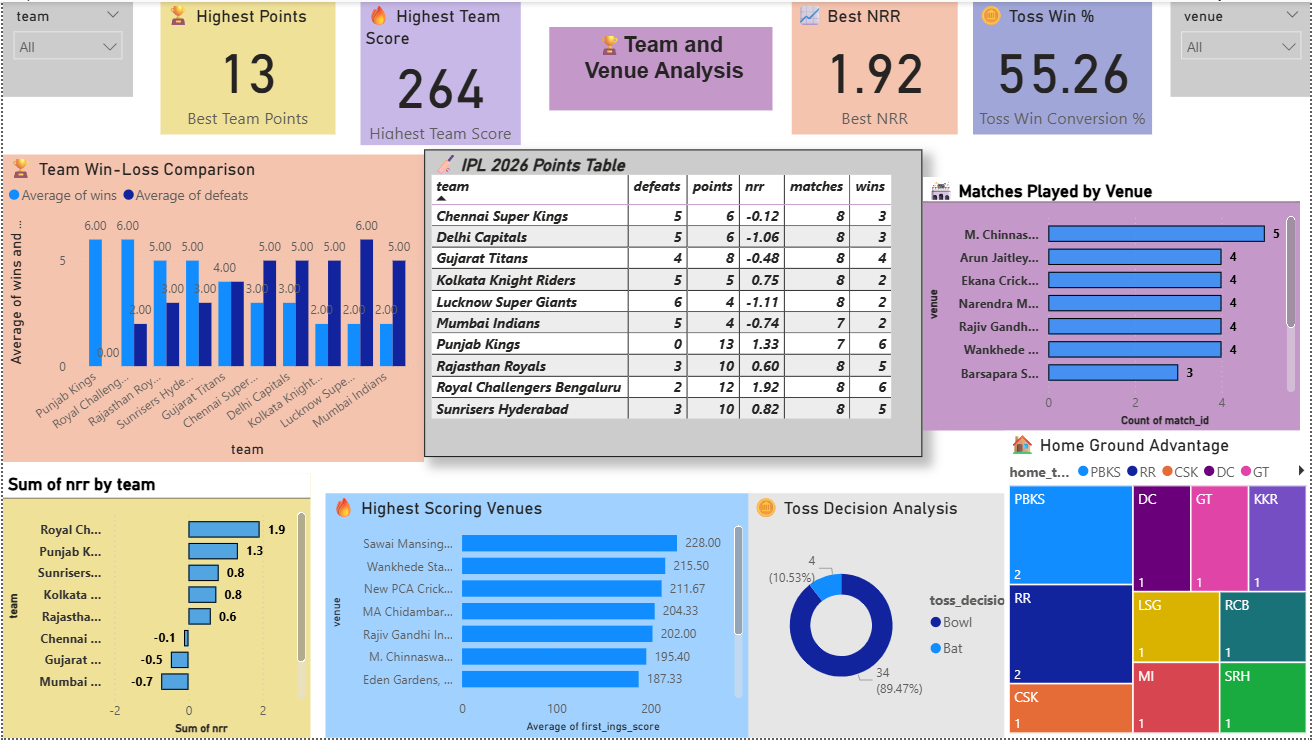

What the dashboard file says about the page in this screenshot:
{"tool":"powerbi","page":{"name":"Page 3","canvas":[1280,720],"ordinal":2},"visuals":[{"type":"textbox","box":[534.5,24.2,218.1,81.2],"z":0},{"type":"slicer","fields":{"Values":["points_table.team"]},"box":[0,0,126.9,92.7],"z":1000},{"type":"slicer","fields":{"Values":["matches.venue"]},"box":[1141.7,0,138.3,92.7],"z":2000},{"type":"card","title":"🏆 Highest Points","fields":{"Values":["Measures (2).Best Team Points"]},"box":[153.9,0,171,129.7],"z":3000},{"type":"card","title":"📈 Best NRR","fields":{"Values":["Measures (2).Best NRR"]},"box":[771.1,0,162.5,129.7],"z":4000},{"type":"card","title":"🔥 Highest Team Score","fields":{"Values":["Measures (2).Highest Team Score"]},"box":[349.2,0,156.8,139.7],"z":5000},{"type":"card","title":"🪙 Toss Win %","fields":{"Values":["Measures (2).Toss Win Conversion %"]},"box":[949.3,0,175.3,129.7],"z":6000},{"type":"clusteredColumnChart","title":"🏆 Team Win-Loss Comparison","fields":{"Category":["points_table.team"],"Y":["Avg(points_table.wins)","Avg(points_table.defeats)"]},"box":[0,149.7,411.9,300.8],"z":7000},{"type":"clusteredBarChart","fields":{"Category":["points_table.team"],"Y":["Sum(points_table.nrr)"]},"box":[0,461,301,259],"z":8000},{"type":"tableEx","title":"🏏 IPL 2026 Points Table","fields":{"Values":["points_table.team","points_table.defeats","points_table.points","points_table.nrr","points_table.matches","points_table.wins"]},"box":[411.9,144,487.5,300.8],"z":9000},{"type":"donutChart","title":"🪙 Toss Decision Analysis","fields":{"Category":["matches.toss_decision"],"Y":["CountNonNull(matches.match_id)"]},"box":[728.4,480.4,273.7,239.5],"z":10000},{"type":"clusteredBarChart","title":"🏟️ Matches Played by Venue","fields":{"Category":["matches.venue"],"Y":["CountNonNull(matches.match_id)"]},"box":[899.4,171,369.2,248],"z":11000},{"type":"clusteredBarChart","title":"🔥 Highest Scoring Venues","fields":{"Category":["matches.venue"],"Y":["Avg(matches.first_ings_score)"]},"box":[315,480.4,413.4,239.5],"z":12000},{"type":"treemap","title":"🏠 Home Ground Advantage","fields":{"Values":["CountNonNull(venues.capacity)"],"Group":["venues.home_team"]},"box":[979.2,419.1,300.8,300.8],"z":13000}]}

Visuals, with their boxes in screenshot pixels (x1, y1, x2, y2), scaled from the page's 1280x720 canvas onto the 1312x742 screenshot:
textbox: bbox=(548, 25, 771, 109)
slicer - points_table.team: bbox=(0, 0, 130, 96)
slicer - matches.venue: bbox=(1170, 0, 1311, 96)
"🏆 Highest Points" card: bbox=(158, 0, 333, 134)
"📈 Best NRR" card: bbox=(790, 0, 957, 134)
"🔥 Highest Team Score" card: bbox=(358, 0, 519, 144)
"🪙 Toss Win %" card: bbox=(973, 0, 1153, 134)
"🏆 Team Win-Loss Comparison" clusteredColumnChart: bbox=(0, 154, 422, 464)
clusteredBarChart - points_table.team x Sum(points_table.nrr): bbox=(0, 475, 309, 741)
"🏏 IPL 2026 Points Table" tableEx: bbox=(422, 148, 922, 458)
"🪙 Toss Decision Analysis" donutChart: bbox=(747, 495, 1027, 741)
"🏟️ Matches Played by Venue" clusteredBarChart: bbox=(922, 176, 1300, 432)
"🔥 Highest Scoring Venues" clusteredBarChart: bbox=(323, 495, 747, 741)
"🏠 Home Ground Advantage" treemap: bbox=(1004, 432, 1311, 741)
